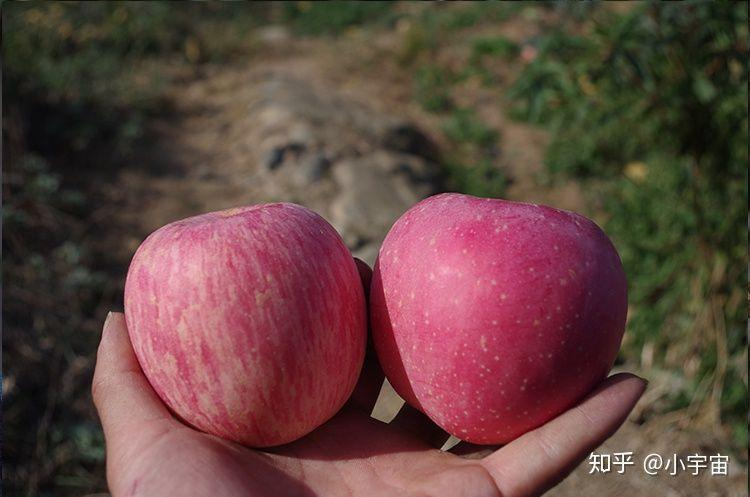apple: (378, 193, 631, 446), (121, 200, 375, 447)
